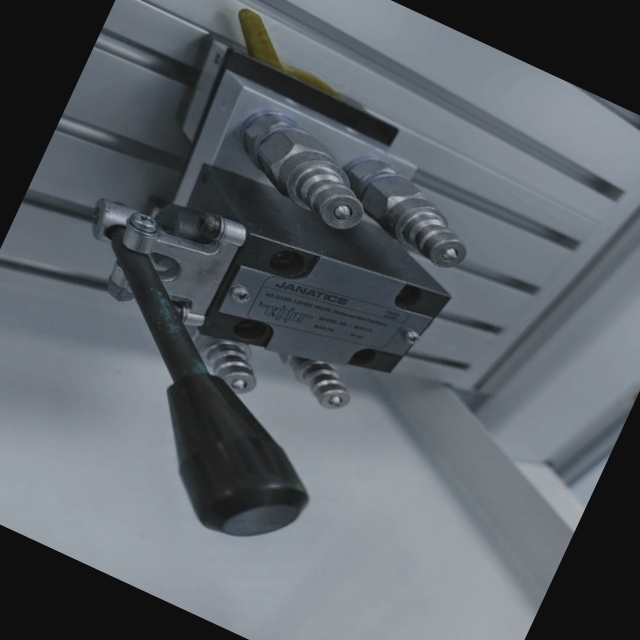4by3 hand lever valve: (0, 0, 539, 588)
